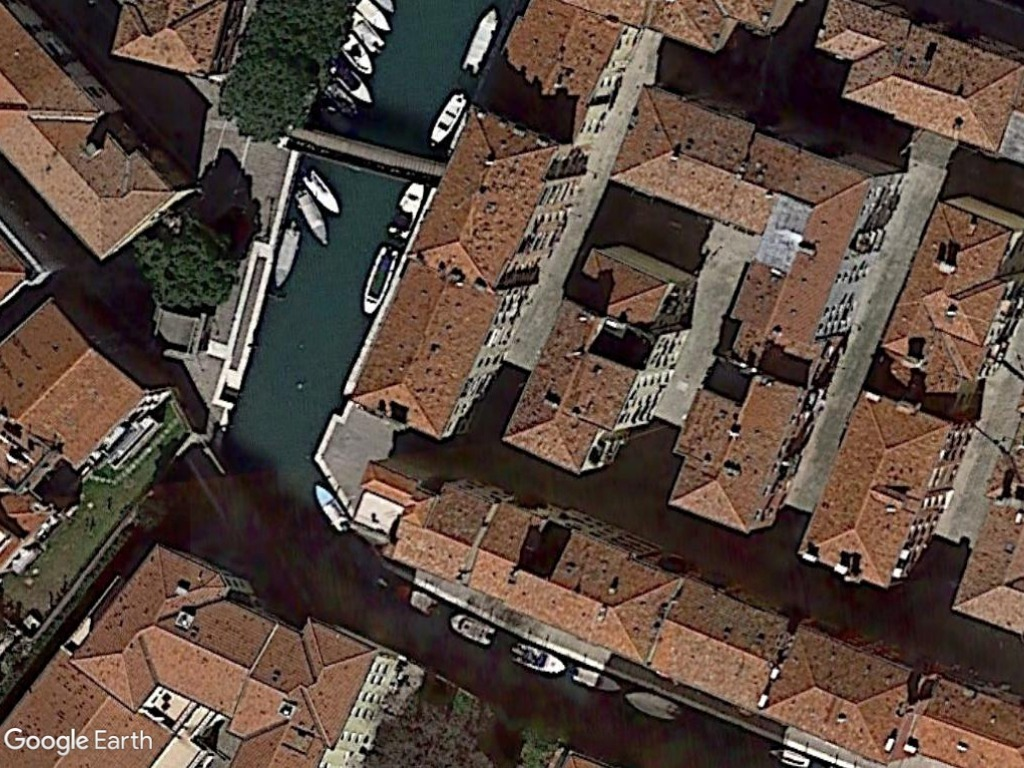boat: (458, 7, 505, 78), (360, 242, 402, 320), (424, 88, 470, 149), (505, 638, 566, 678), (291, 183, 329, 247), (310, 480, 353, 536), (624, 687, 681, 727), (299, 167, 344, 216), (272, 222, 304, 289), (445, 609, 498, 649), (569, 662, 623, 696)
